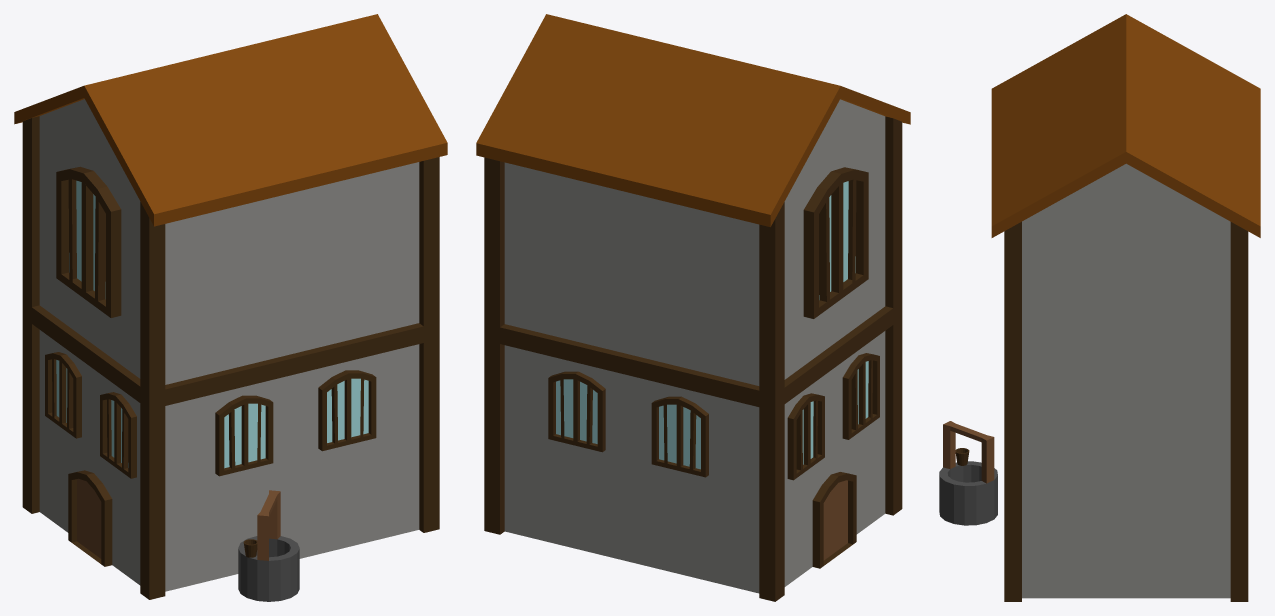
The model's file is Nuevo_Comedor.glb.
3 renders of one model, left to right at view 1: azimuth 30°, elevation 25°; view 2: azimuth 150°, elevation 25°; view 3: azimuth 270°, elevation 25°, orthographic. The views are drawn at different scales.
Visible parts, largest first — view 1: Cylinder; view 2: Cylinder; view 3: Cylinder.
Part boxes in pixels (<box>): Cylinder: <box>14,14,447,601</box>; Cylinder: <box>476,14,910,601</box>; Cylinder: <box>939,14,1260,601</box>.
Bounding box in the file's own units: 11.03 × 16.79 × 10.85.
